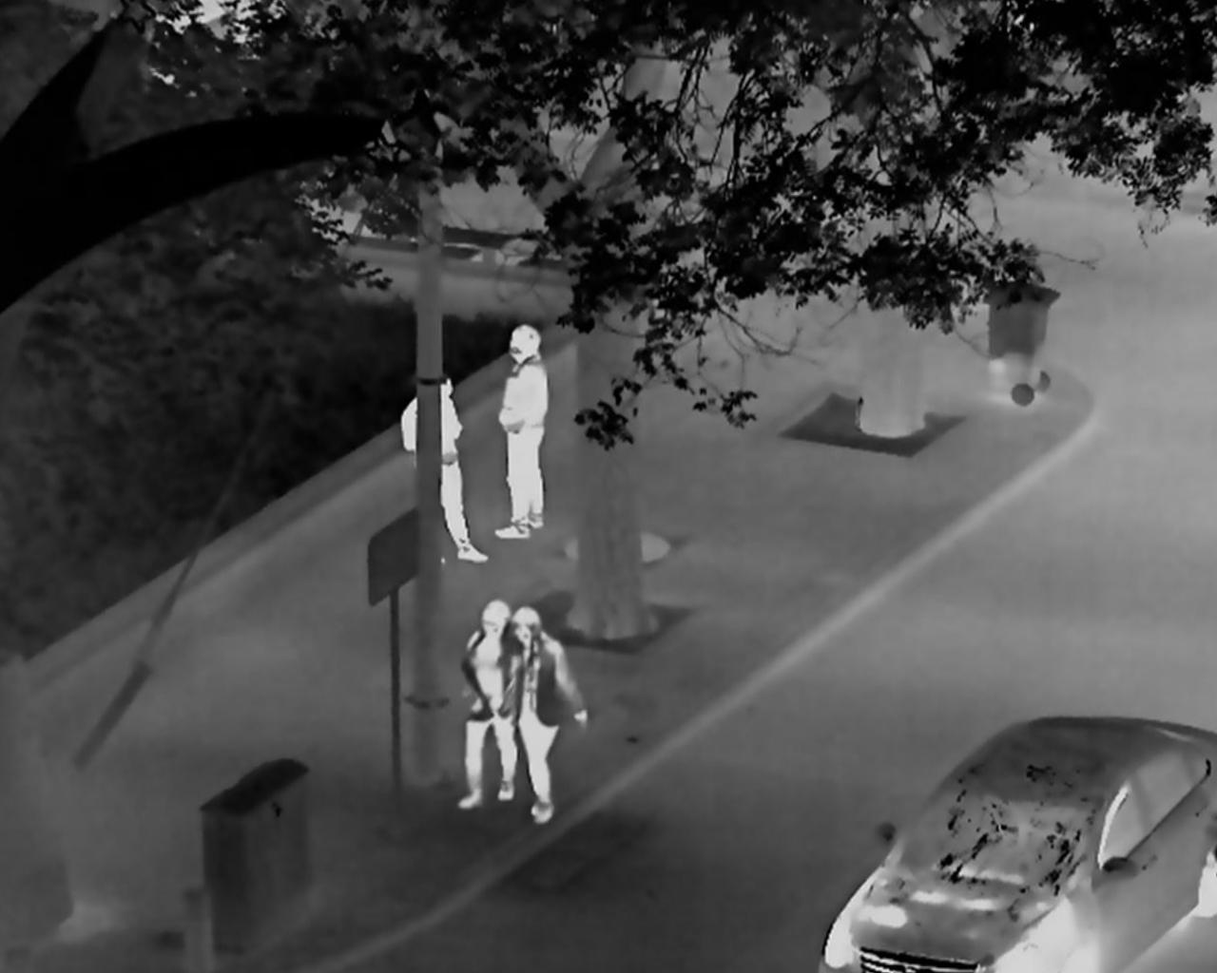person: (508, 604, 588, 824), (400, 375, 489, 563), (458, 599, 518, 808), (493, 324, 549, 539)
